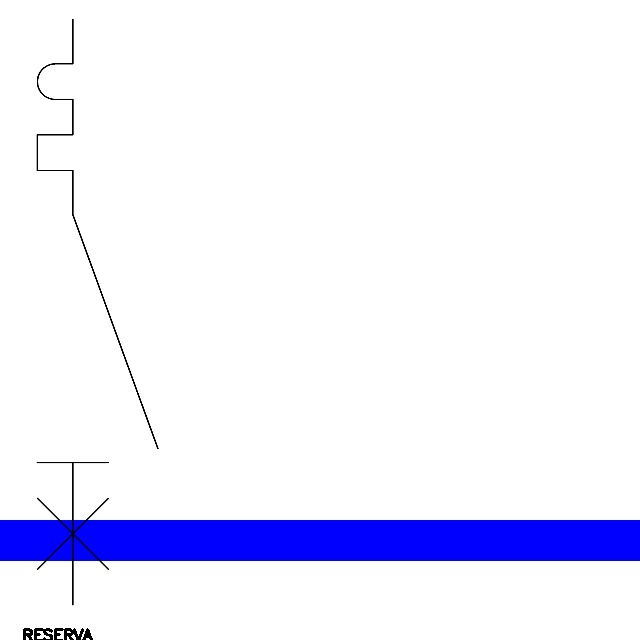interruptor_termomagnetico: (22, 4, 173, 620)
